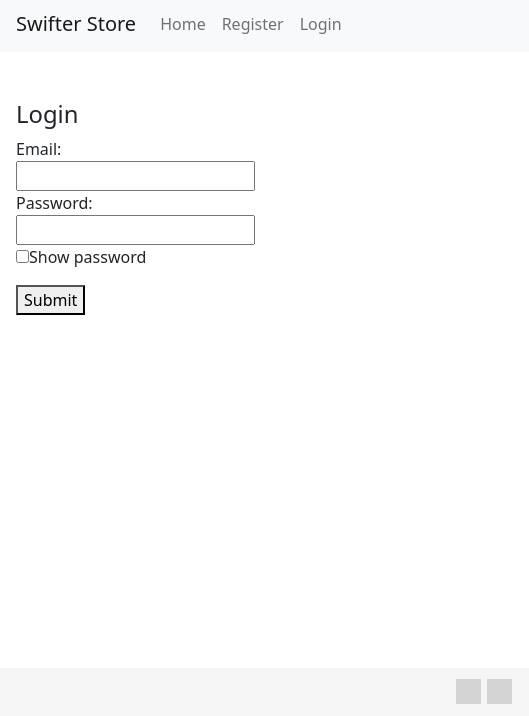
tests layout and functionality of Login page › contains a paragraph with correct error text if email not registered
The width and height of the screenshot is (529, 716).
this email has not been registered as a user
In the field with test id "login-email-field": (136, 176) [16,161,255,191], type "robin75499@gmail.com"
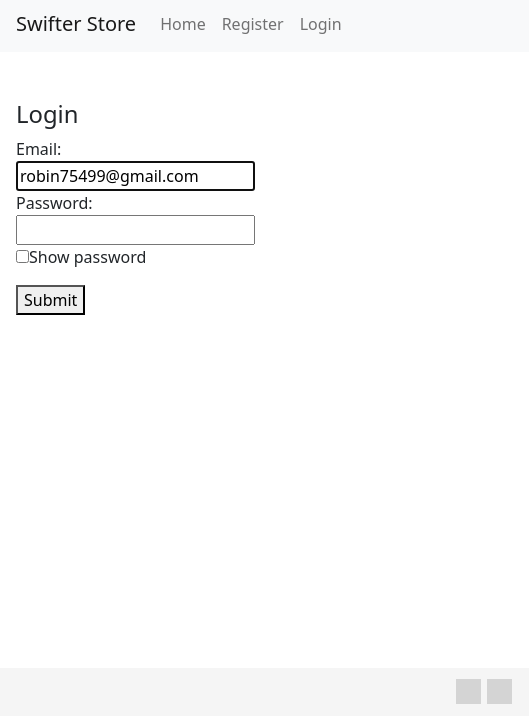
In the password field with test id "login-password-field": (136, 230) [16,215,255,245], type "gotham#75"
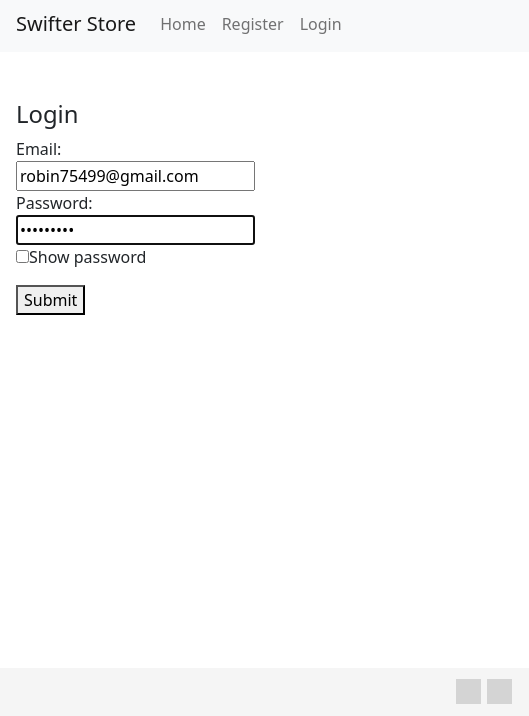
Click the button with test id "login-submit-button": (51, 300) [16,285,85,315]
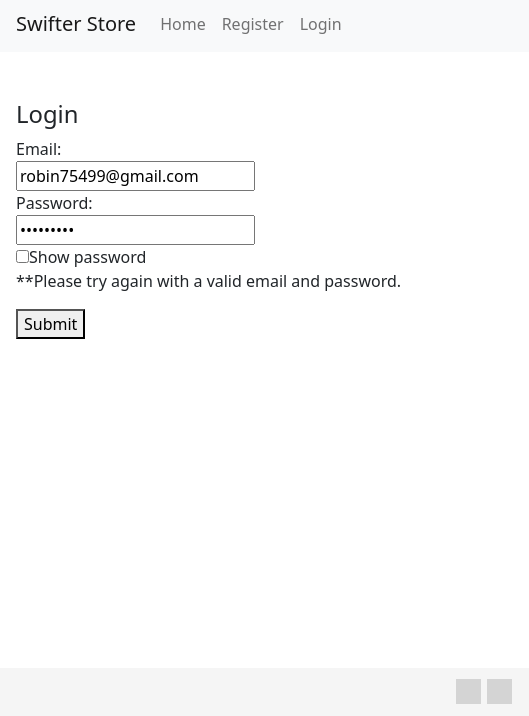
Now the text "**Please try again with a valid email and password." is shown, box [16,270,401,292]
